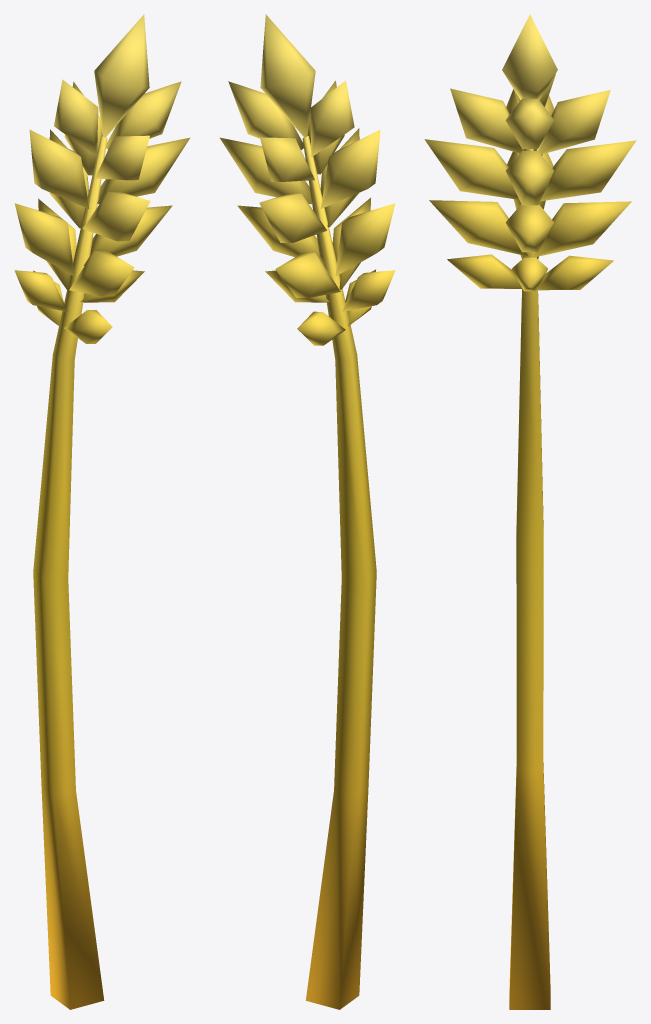
The model's file is wheat.fbx.
The picture shows the model from 3 angles, left to right: view 1: azimuth 30°, elevation 25°; view 2: azimuth 150°, elevation 25°; view 3: azimuth 270°, elevation 25°; orthographic projection. The views are drawn at different scales.
Visible parts, largest first — view 1: Cube.003; view 2: Cube.003; view 3: Cube.003.
Part boxes in pixels (x1,y1,x2,y2): Cube.003: [14, 14, 189, 1009]; Cube.003: [220, 14, 395, 1009]; Cube.003: [424, 14, 636, 1009].
Size of the model in its own units: 5.03 by 26.41 by 4.97.
